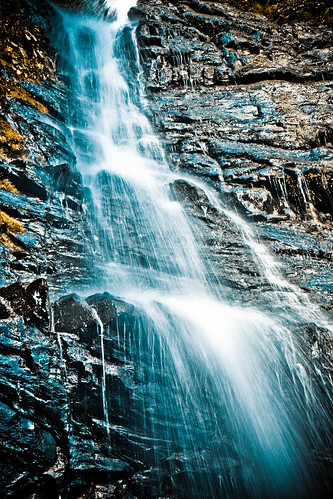wufengciWaterfall: (25, 4, 296, 494)
